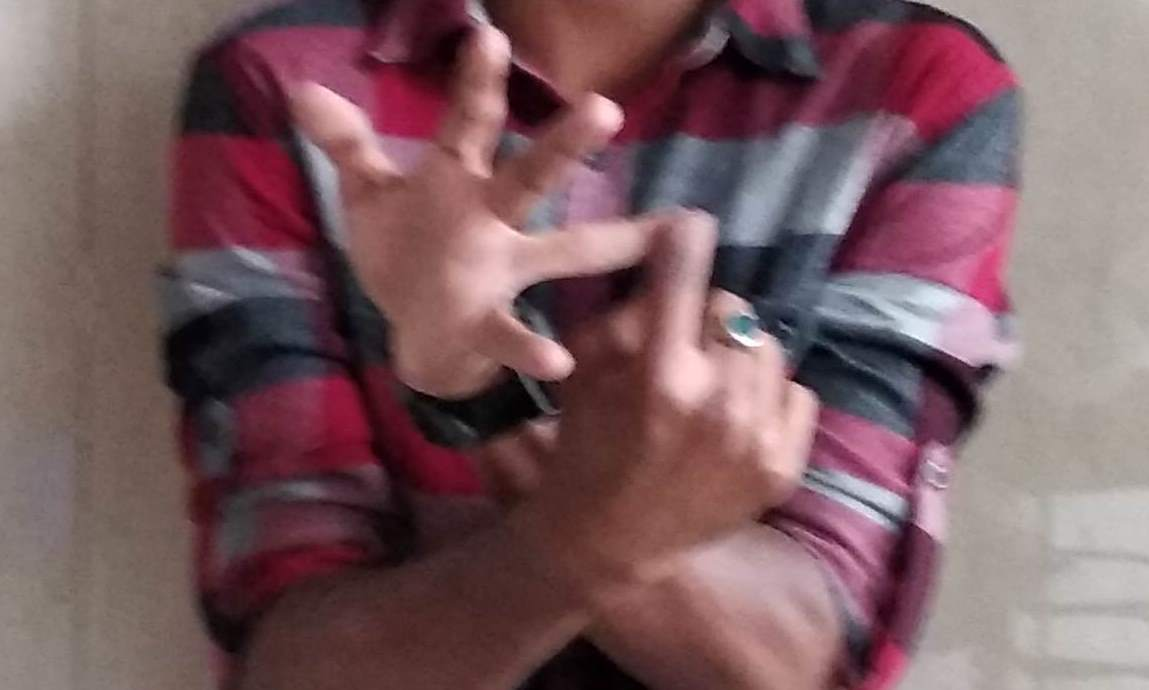e: (363, 65, 795, 433)
